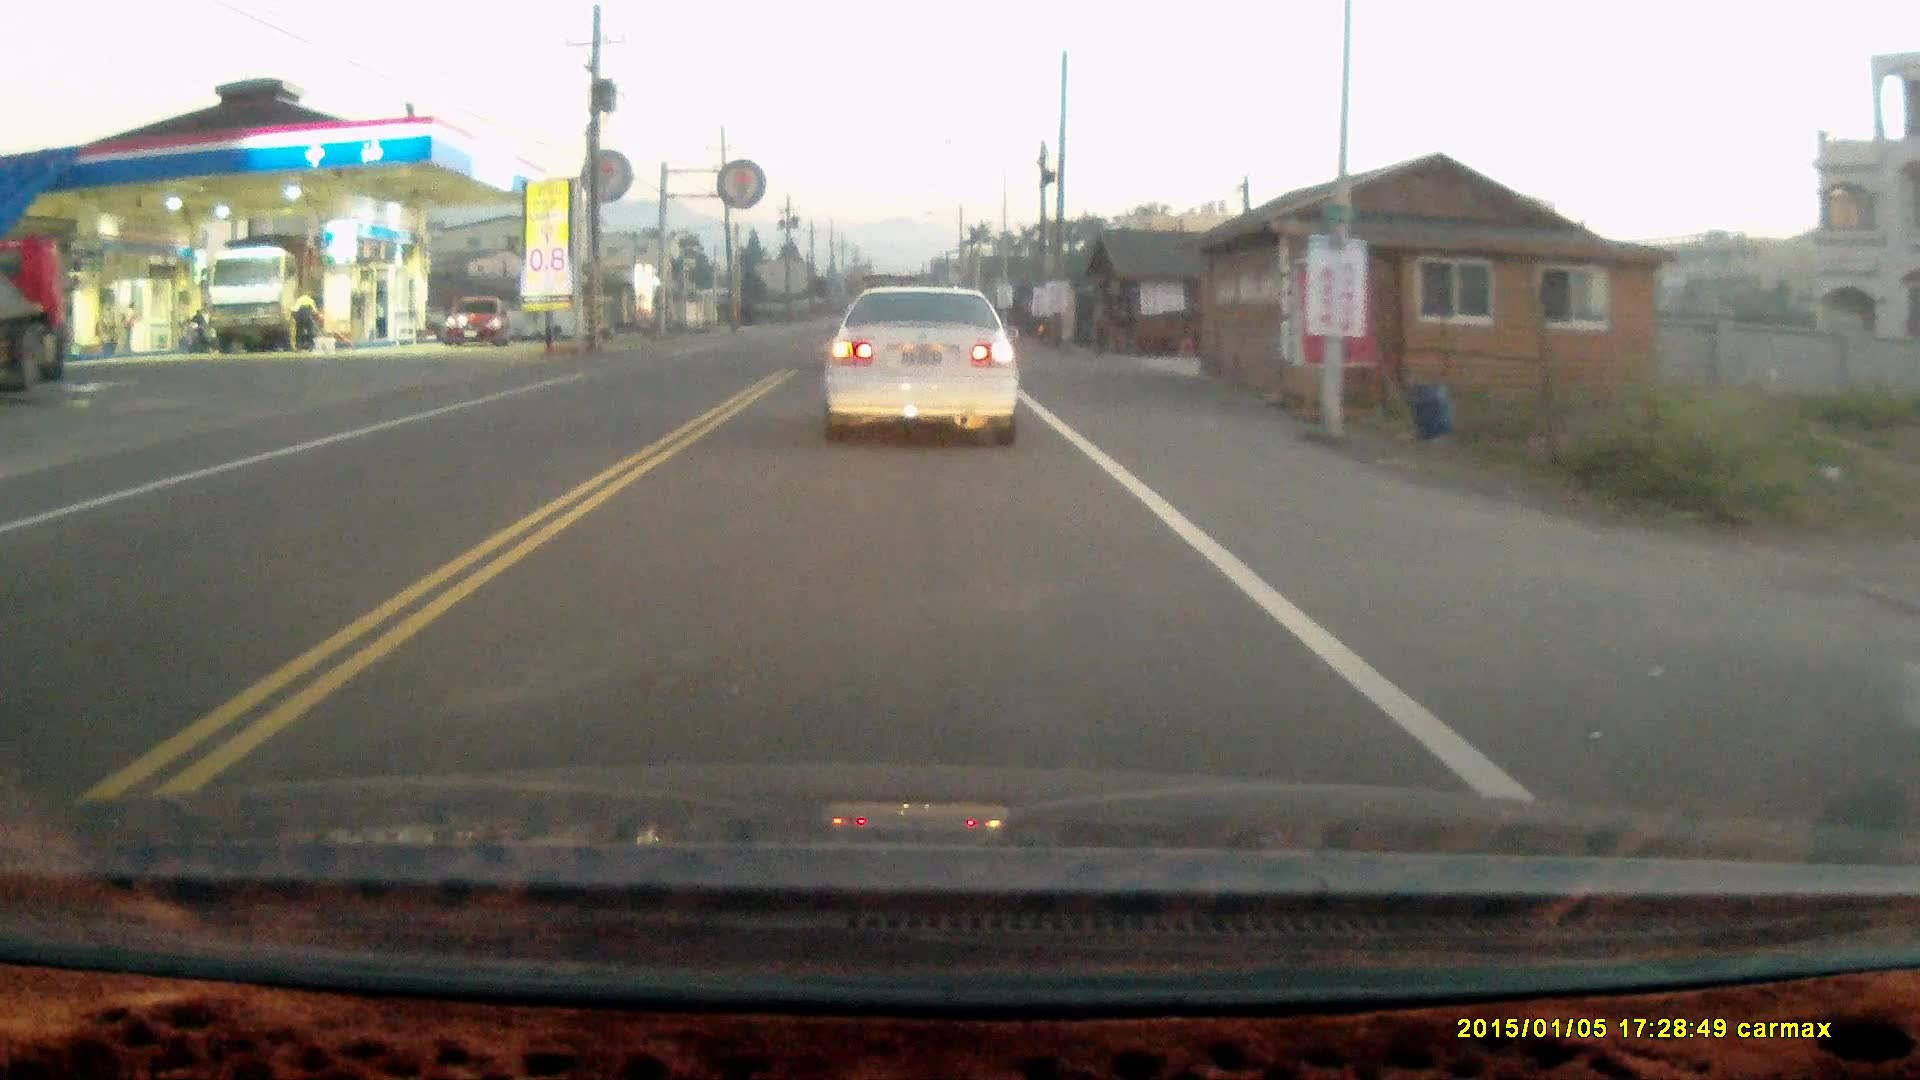pedestrian: (285, 288, 318, 350)
vehicle: (818, 282, 1026, 448), (206, 241, 323, 353), (446, 296, 518, 351)
